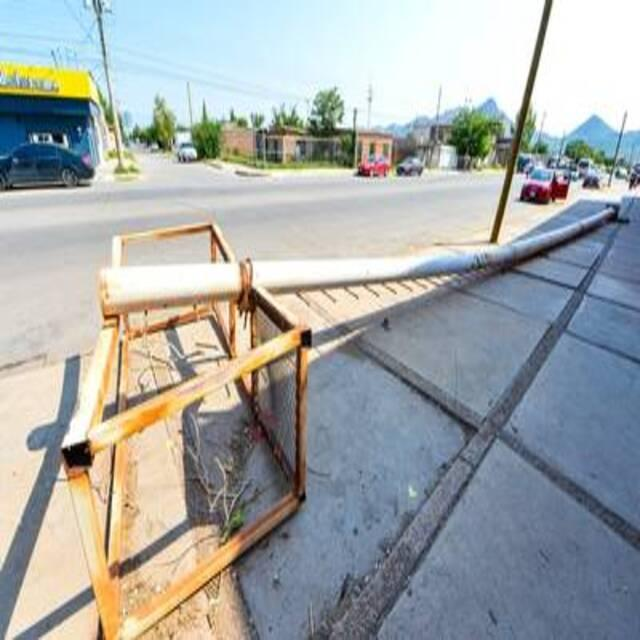Inclined Pole: (56, 198, 624, 640)
